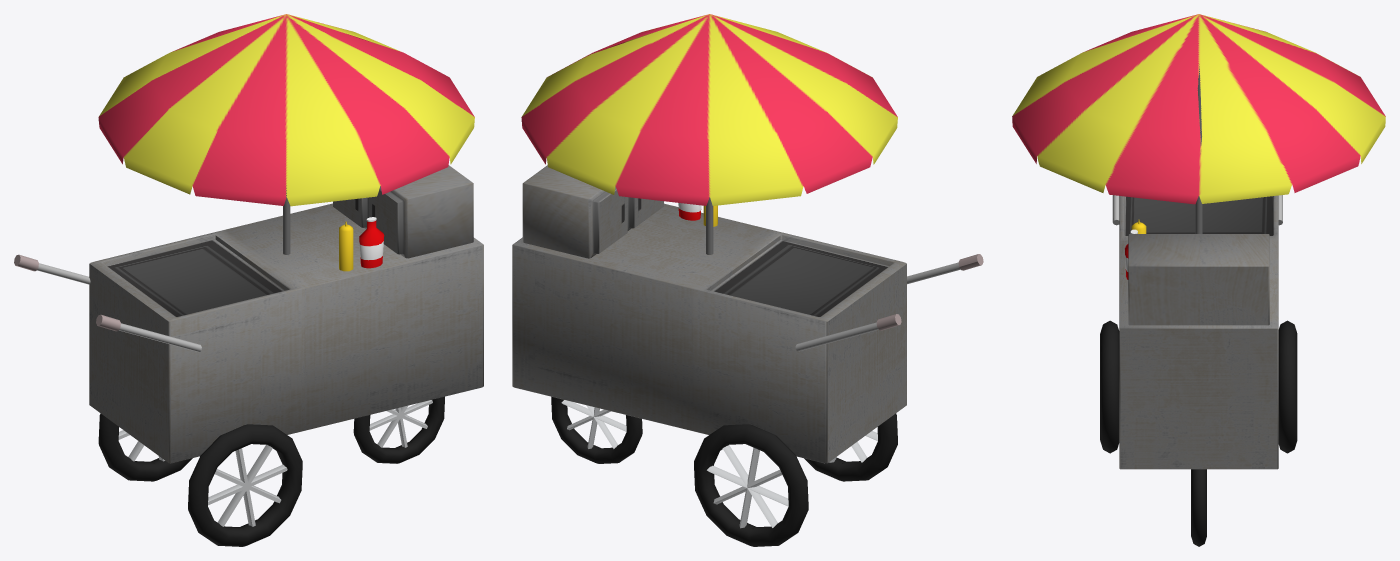
File: DogHot.fbx
3 renders of one model, left to right at view 1: azimuth 30°, elevation 25°; view 2: azimuth 150°, elevation 25°; view 3: azimuth 270°, elevation 25°, orthographic.
Parts seen in each view (by area): view 1: main.002; view 2: main.002; view 3: main.002.
Boxes of the visible parts, x1,y1,x2,y2 form: main.002: [14, 14, 483, 546]; main.002: [512, 14, 983, 546]; main.002: [1012, 14, 1385, 546].
Bounding box in the file's own units: 404 × 469 × 334.
